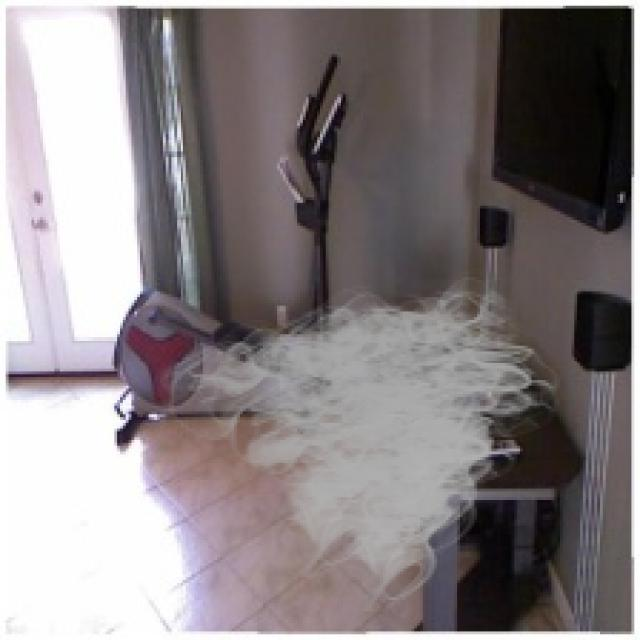smoke: (152, 268, 572, 612)
